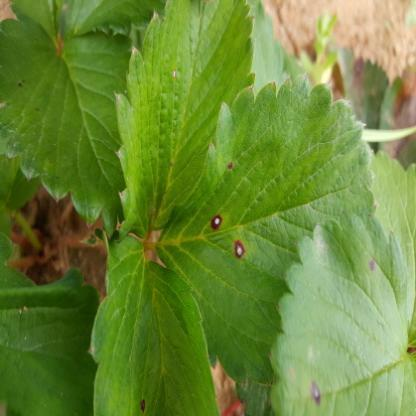Strawberry_Leaf_Spot: (155, 72, 376, 392), (113, 0, 257, 242), (268, 212, 416, 416), (0, 14, 133, 240), (89, 230, 218, 415)
